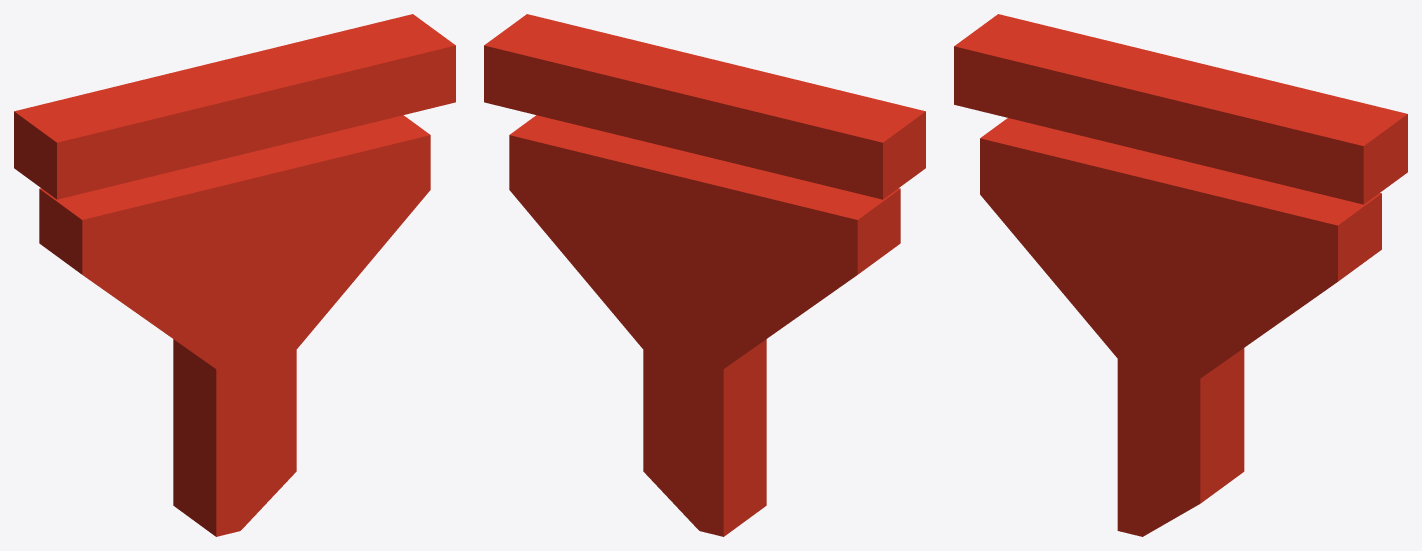
The model's file is Icon_Filter_02.fbx.
3 views of the same model, side by side, from view 1: azimuth 30°, elevation 25°; view 2: azimuth 150°, elevation 25°; view 3: azimuth 330°, elevation 25° (orthographic). The views are drawn at different scales.
Visible parts, largest first — view 1: Icon_Filter_02; view 2: Icon_Filter_02; view 3: Icon_Filter_02.
Part boxes in pixels (left/top/right/bottom): Icon_Filter_02: left=14, top=14, right=455, bottom=536; Icon_Filter_02: left=484, top=14, right=925, bottom=536; Icon_Filter_02: left=954, top=14, right=1407, bottom=536.
Size of the model in its own units: 64.67 by 67.09 by 12.06.
